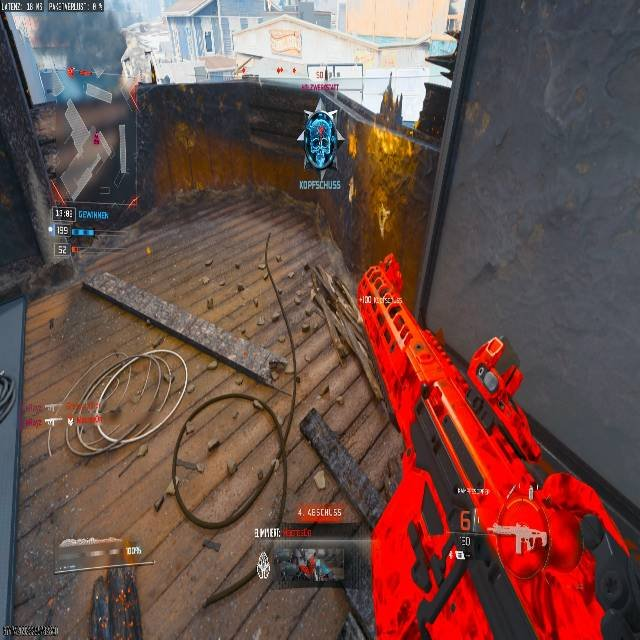head: (315, 98, 333, 115)
player: (298, 100, 340, 174)
